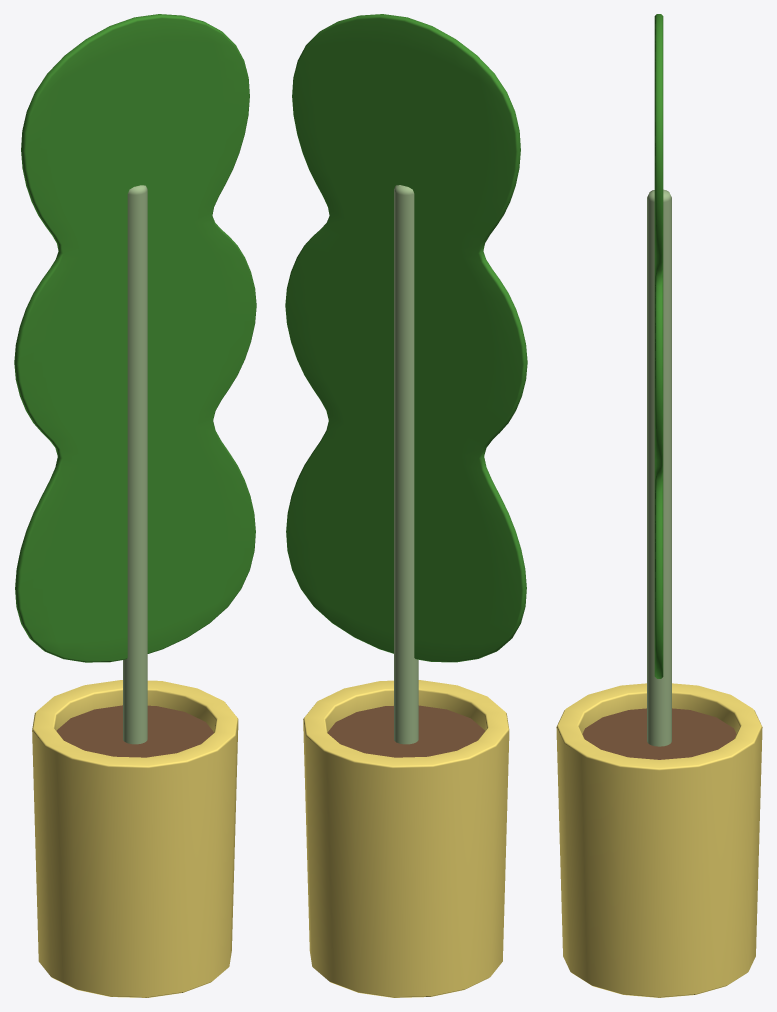
Rendered from Vase_3.glb.
The picture shows the model from 3 angles, left to right: view 1: azimuth 30°, elevation 25°; view 2: azimuth 150°, elevation 25°; view 3: azimuth 270°, elevation 25°; orthographic projection.
Visible parts, largest first — view 1: Plant_65; view 2: Plant_65; view 3: Plant_65.
Part boxes in pixels (x1,y1,x2,y2): Plant_65: (14,14,256,997); Plant_65: (285,14,527,997); Plant_65: (556,14,762,997).
Size of the model in its own units: 0.5479 by 2.05 by 0.4111.
Materials: 1 (1 with a texture image).
